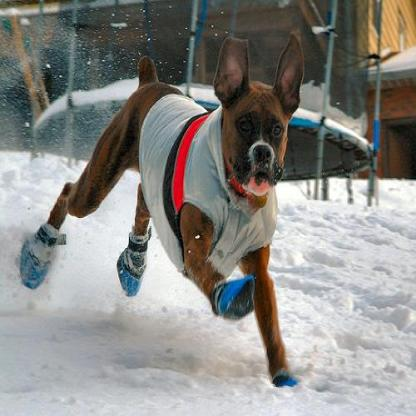boxer: (17, 29, 304, 385)
